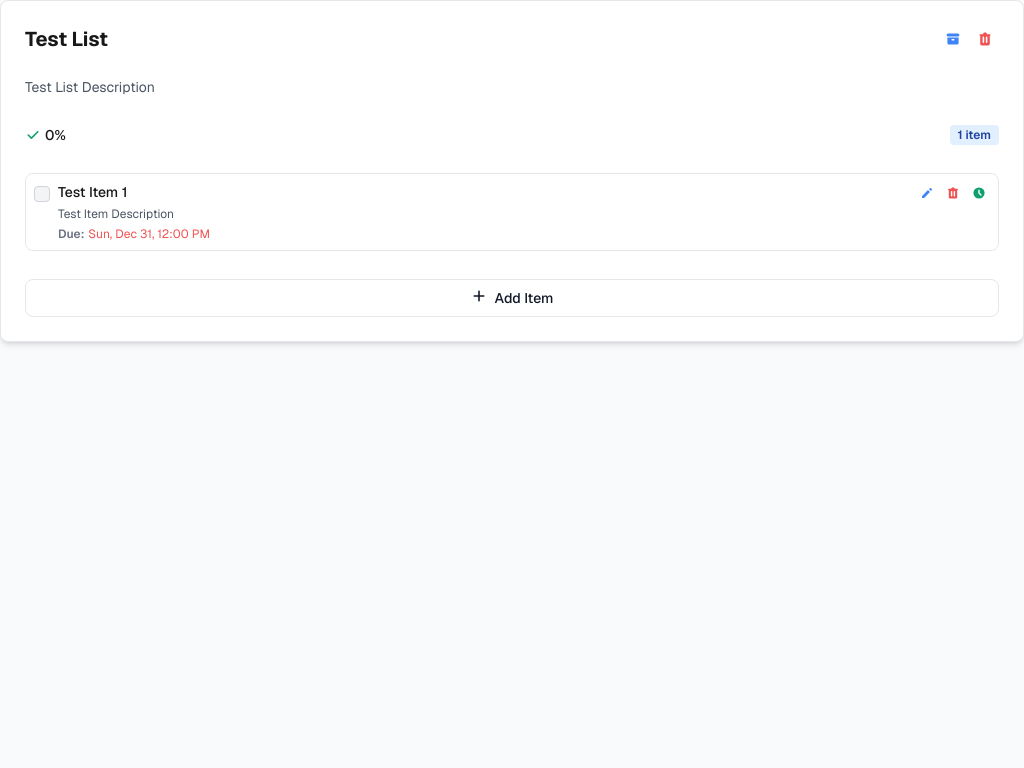
Test: TodoList Component › shows add item form when add item button is clicked
Click the button "Add Item".
click(512, 298)  # box [25,279,999,317]
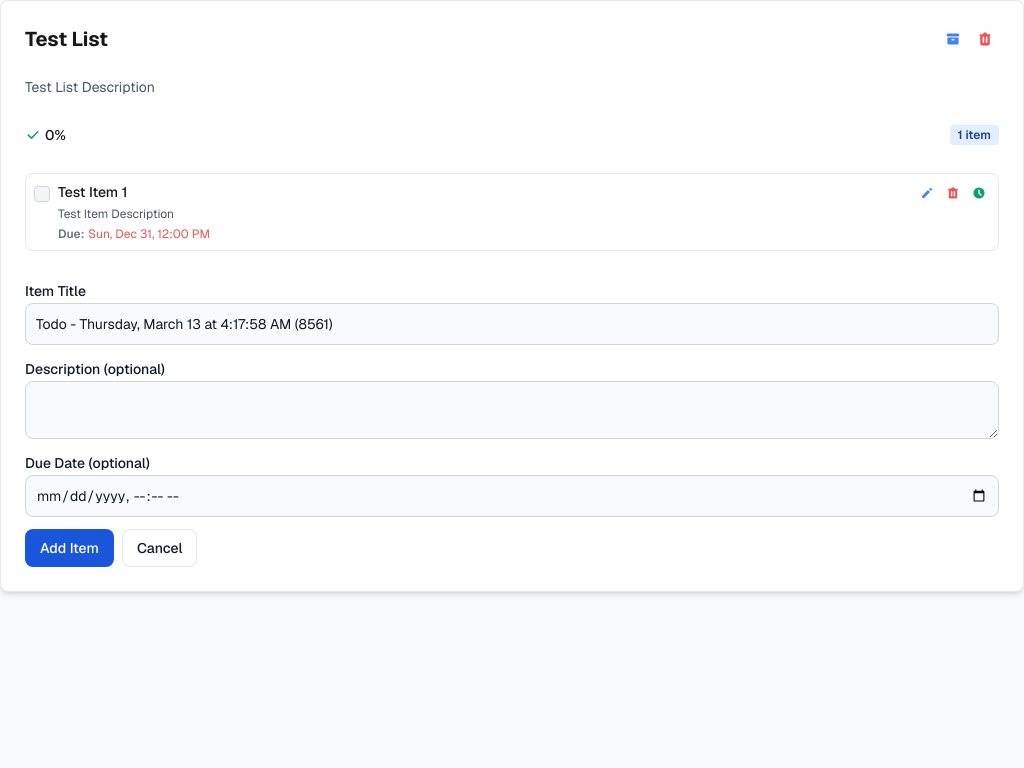
Result: the field labelled "Item Title" is shown at [25,303,999,345]
Result: the text box labelled "Description (optional)" is shown at [25,381,999,439]
Result: the button "Cancel" is shown at [122,529,198,567]
